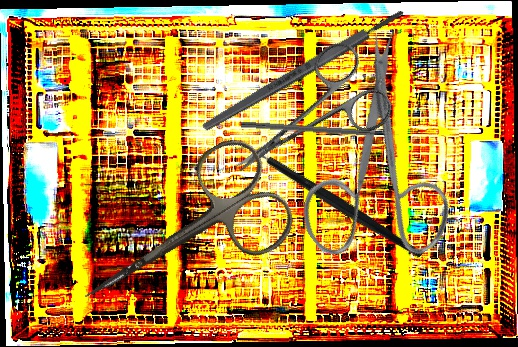Chopper: (229, 95, 425, 309)
Hook Surgical: (240, 120, 400, 140)
Iris Scissors: (235, 25, 506, 302), (53, 129, 304, 346), (209, 34, 399, 206)
Scalpel Handle: (199, 5, 407, 135)
